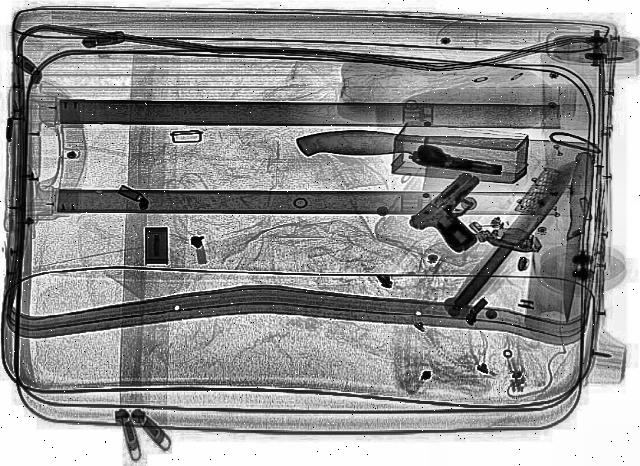Gun: (402, 172, 524, 256), (406, 144, 506, 178)
Knife: (436, 153, 590, 320), (290, 130, 596, 196), (552, 155, 598, 324)
